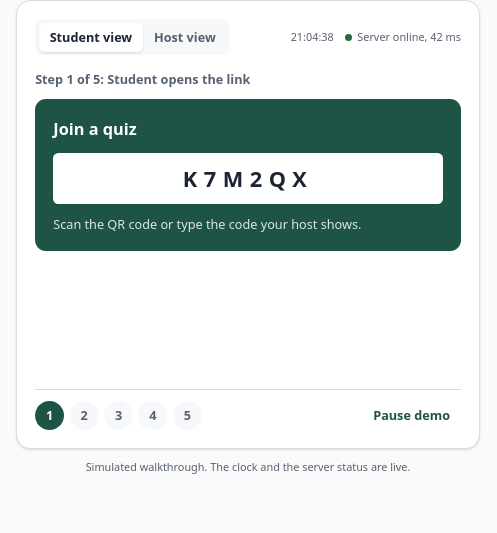
Test: LiveDemo question › puts the signed-in name in the question
Click the button named "step 3": [118, 415] box [104,401,133,430]
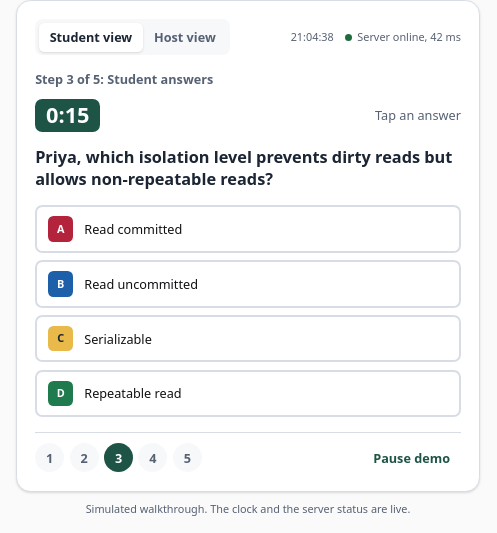
expect the text "Priya, which isolation level prevents dirty reads but allows non-repeatable reads?" is shown: met, box [35,146,452,190]
